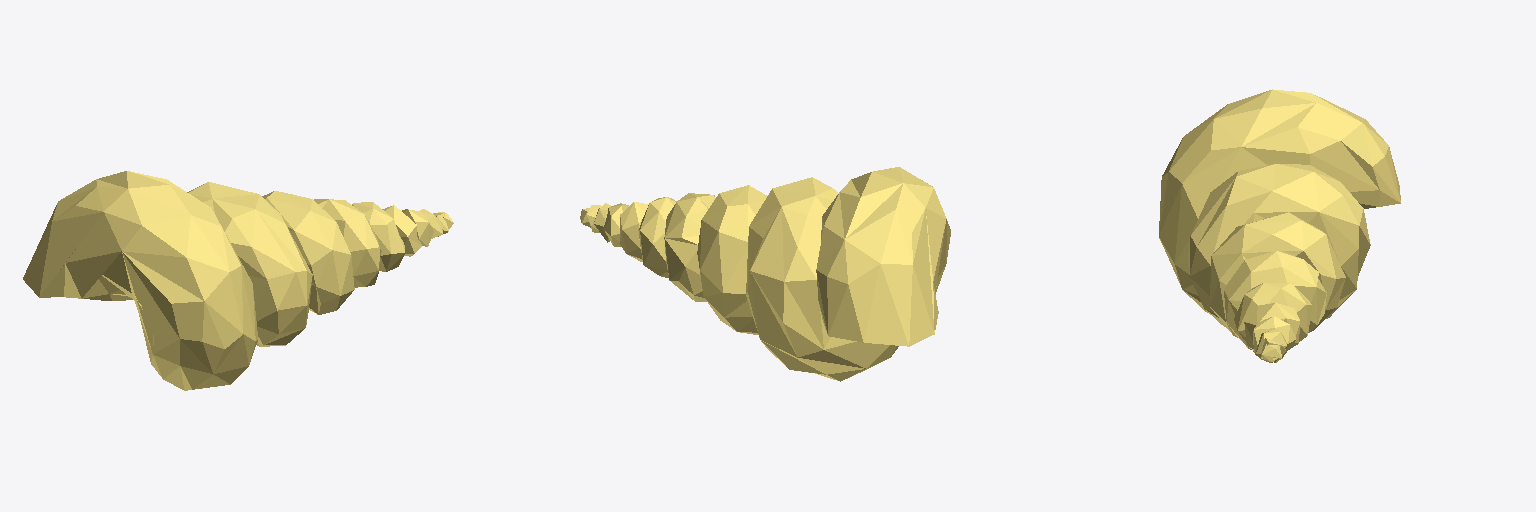
3 views of the same model, side by side, from view 1: azimuth 30°, elevation 25°; view 2: azimuth 150°, elevation 25°; view 3: azimuth 270°, elevation 25° (orthographic).
Visible parts, largest first — view 1: SpiralShell_SpiralShellMesh; view 2: SpiralShell_SpiralShellMesh; view 3: SpiralShell_SpiralShellMesh.
Part boxes in pixels (x1,y1,x2,y2): SpiralShell_SpiralShellMesh: (23, 171, 453, 390); SpiralShell_SpiralShellMesh: (580, 167, 950, 381); SpiralShell_SpiralShellMesh: (1159, 89, 1400, 362).
Bounding box in the file's own units: 0.3235 × 0.1649 × 0.1772.
Materials: 1 (1 with a texture image).